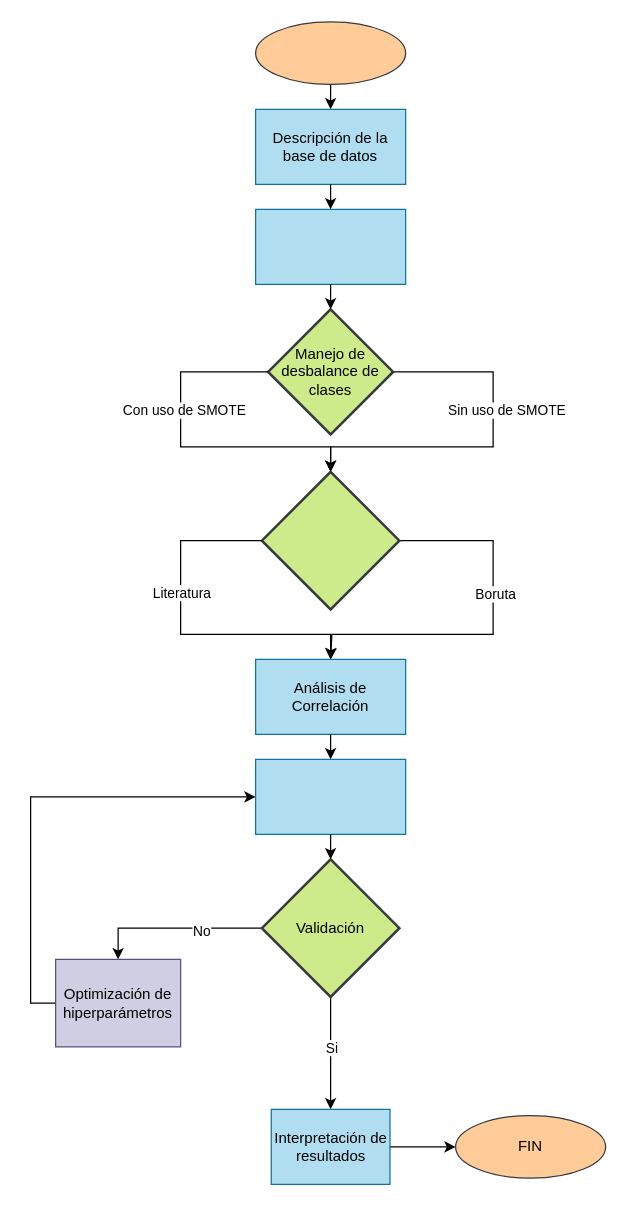
This 628x1206 diagram has some shape labels left out. Here are the shapes that lost their labels. From the top down, the centre of each, then its label:
At (330,52): "INICIO".
At (330,246): "Pre-procesamiento".
At (330,540): "Selección de características".
At (330,796): "Algoritmos de aprendizaje automático".
